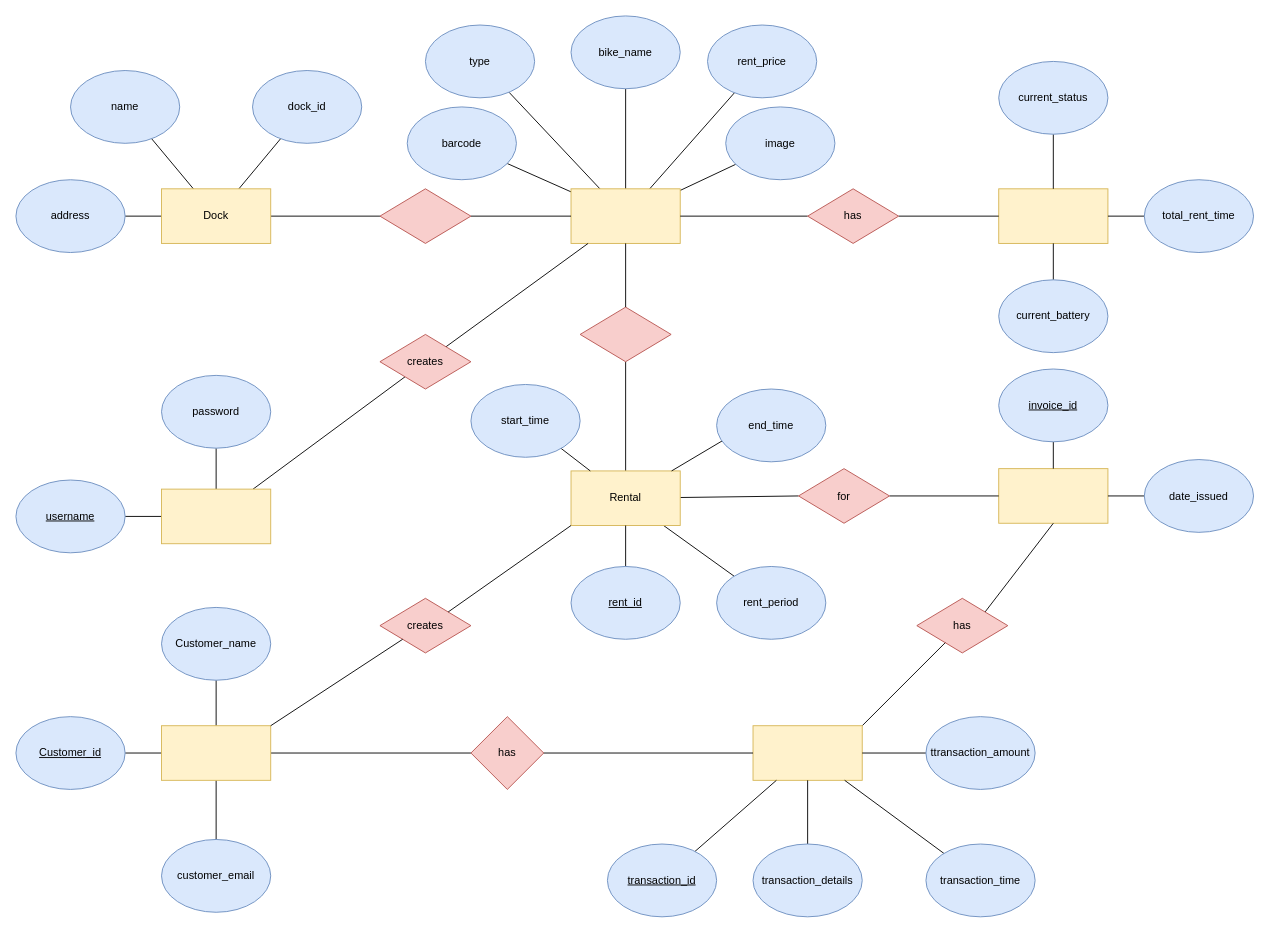
The diagram is 1269 pixels wide and 933 high, and some of its shapes have lost their labels. Here are the shapes that lost their labels. From the top down, the centre of each, then its label:
the point at 425,215: at
the point at 625,215: Bike
the point at 1053,215: BikeStatus
the point at 625,334: in
the point at 1053,495: Invoice
the point at 216,516: Adminitstrator
the point at 216,752: Customer
the point at 807,752: Transaction
